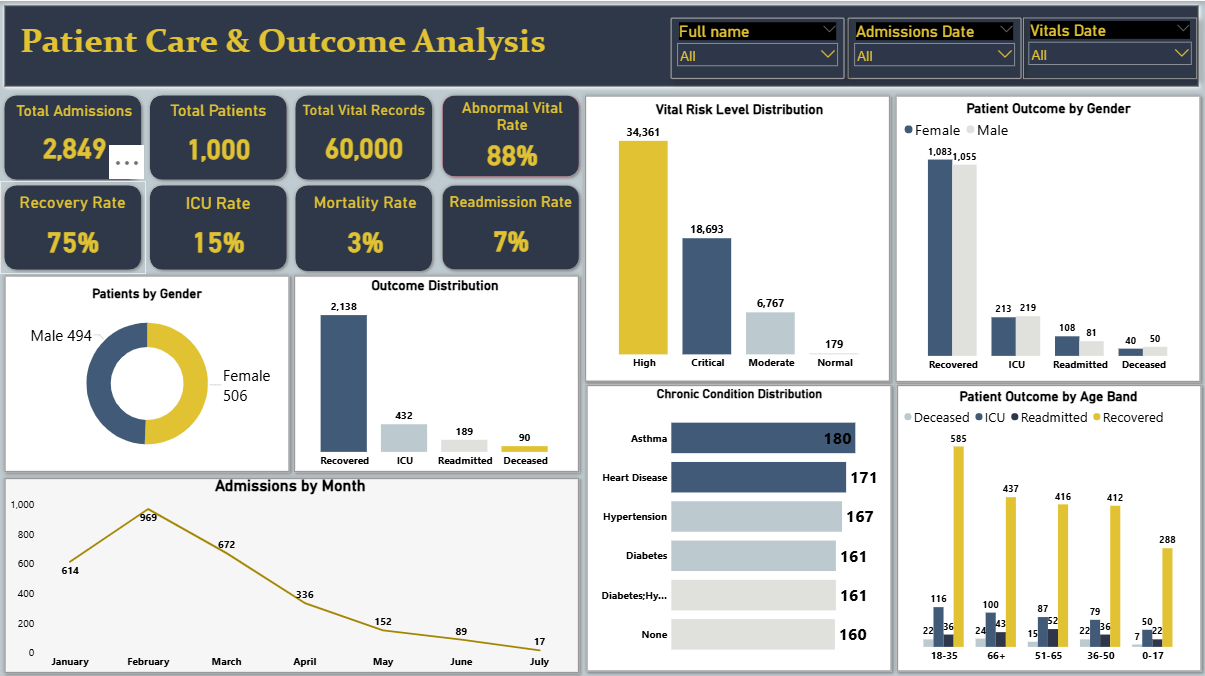

The dashboard page shown, as its layout file describes it:
{"tool":"powerbi","page":{"name":"Patient & Outcome Analysis","canvas":[2560,1440],"ordinal":1},"visuals":[{"type":"shape","box":[617.2,190.9,308.6,197.2],"z":0},{"type":"shape","box":[0,0,2551.3,190.9],"z":1000},{"type":"shape","box":[928.9,381.7,308.6,197.2],"z":2000},{"type":"shape","box":[928.9,190.9,308.6,190.9],"z":3000},{"type":"shape","box":[1231.1,190.9,666,626],"z":4000},{"type":"textbox","box":[38.2,35,1151.6,130.4],"z":5000},{"type":"shape","box":[1234.3,804.8,666,626.7],"z":6000},{"type":"shape","box":[0,572.6,623.5,435.8],"z":7000},{"type":"shape","box":[0,190.9,308.6,197.2],"z":8000},{"type":"shape","box":[308.6,190.9,308.6,197.2],"z":9000},{"type":"shape","box":[0,381.7,308.6,197.2],"z":10000},{"type":"shape","box":[308.6,381.7,308.6,197.2],"z":11000},{"type":"shape","box":[617.2,381.7,308.6,200.4],"z":12000},{"type":"card","title":"Total Admissions","fields":{"Values":["Measures_.Total admissions"]},"box":[19.1,213.1,276.8,146.3],"z":13000},{"type":"card","title":"Total Vital Records","fields":{"Values":["Measures_.Total Vital Records"]},"box":[633.1,213.1,276.8,149.5],"z":14000},{"type":"card","title":"Total Patients","fields":{"Values":["Measures_.Total Patients"]},"box":[321.3,213.1,283.1,149.5],"z":15000},{"type":"card","title":"Readmission Rate","fields":{"Values":["Measures_.Readmitted Outcome Rate"]},"box":[944.8,407.2,276.8,152.7],"z":16000},{"type":"card","title":"Mortality Rate","fields":{"Values":["Measures_.Mortality Rate"]},"box":[636.2,407.2,276.8,152.7],"z":17000},{"type":"slicer","fields":{"Values":["admissions.Month Date"]},"box":[1797.4,35,369,130.4],"z":18000},{"type":"slicer","fields":{"Values":["vitals.Month Date"]},"box":[2169.6,35,369,130.4],"z":19000},{"type":"card","title":"ICU Rate","fields":{"Values":["Measures_.ICU Rate"]},"box":[324.5,407.2,276.8,152.7],"z":20000},{"type":"slicer","fields":{"Values":["patients.full_name"]},"box":[1422,35,369,130.4],"z":21000},{"type":"donutChart","title":"Patients by Gender","fields":{"Category":["patients.gender"],"Y":["Measures_.Total Patients"]},"box":[19.1,604.4,585.3,381.7],"z":22000},{"type":"clusteredBarChart","title":"Chronic Condition Distribution","fields":{"Category":["patients.chronic_conditions"],"Y":["Measures_.Total Patients"]},"box":[1253.4,817.6,629.9,598.1],"z":23000},{"type":"card","title":"Abnormal Vital Rate","fields":{"Values":["Measures_.Abnormal Vital Rate"]},"box":[948,206.8,276.8,136.8],"z":24000},{"type":"card","title":"Recovery Rate","fields":{"Values":["Measures_.Recovery Rate"]},"box":[15.9,407.2,276.8,152.7],"z":25000},{"type":"shape","box":[0,1002.1,1237.5,432.6],"z":26000},{"type":"shape","box":[614,572.6,623.5,435.8],"z":27000},{"type":"lineChart","title":"Admissions by Month","fields":{"Y":["Measures_.Total Admissions"],"Category":["admissions.Month Date.Variation.Date Hierarchy.Month"]},"box":[15.9,1008.4,1199.3,416.7],"z":28000},{"type":"clusteredColumnChart","title":"Outcome Distribution","fields":{"Y":["Measures_.Total Admissions"],"Category":["admissions.outcome"]},"box":[623.5,585.3,598.1,413.6],"z":29000},{"type":"shape","box":[1889.6,190.9,666,626.7],"z":30000},{"type":"shape","box":[1892.8,804.8,664.9,626.7],"z":31000},{"type":"clusteredColumnChart","title":"Patient Outcome by Gender","fields":{"Y":["Measures_.Total Admissions"],"Series":["patients.gender"],"Category":["admissions.outcome"]},"box":[1908.7,210,629.9,585.3],"z":32000},{"type":"clusteredColumnChart","title":"Vital Risk Level Distribution","fields":{"Category":["vitals.vital_risk_level"],"Y":["Measures_.Total Vital Records"]},"box":[1253.4,213.1,629.9,579],"z":33000},{"type":"clusteredColumnChart","title":"Patient Outcome by  Age Band","fields":{"Y":["Measures_.Total Admissions"],"Series":["admissions.outcome"],"Category":["patients.Age Band"]},"box":[1908.7,820.8,629.9,591.7],"z":34000}]}

Visuals, with their boxes in screenshot pixels (x1, y1, x2, y2), scaled from the page's 2560x1440 canvas onto the 1205x676 screenshot:
shape: locate(291, 90, 436, 182)
shape: locate(0, 0, 1201, 90)
shape: locate(437, 179, 582, 272)
shape: locate(437, 90, 582, 179)
shape: locate(579, 90, 893, 383)
textbox: locate(18, 16, 560, 78)
shape: locate(581, 378, 894, 672)
shape: locate(0, 269, 293, 473)
shape: locate(0, 90, 145, 182)
shape: locate(145, 90, 291, 182)
shape: locate(0, 179, 145, 272)
shape: locate(145, 179, 291, 272)
shape: locate(291, 179, 436, 273)
"Total Admissions" card: locate(9, 100, 139, 169)
"Total Vital Records" card: locate(298, 100, 428, 170)
"Total Patients" card: locate(151, 100, 284, 170)
"Readmission Rate" card: locate(445, 191, 575, 263)
"Mortality Rate" card: locate(299, 191, 430, 263)
slicer - admissions.Month Date: locate(846, 16, 1020, 78)
slicer - vitals.Month Date: locate(1021, 16, 1195, 78)
"ICU Rate" card: locate(153, 191, 283, 263)
slicer - patients.full_name: locate(669, 16, 843, 78)
"Patients by Gender" donutChart: locate(9, 284, 284, 463)
"Chronic Condition Distribution" clusteredBarChart: locate(590, 384, 886, 665)
"Abnormal Vital Rate" card: locate(446, 97, 577, 161)
"Recovery Rate" card: locate(7, 191, 138, 263)
shape: locate(0, 470, 582, 674)
shape: locate(289, 269, 582, 473)
"Admissions by Month" lineChart: locate(7, 473, 572, 669)
"Outcome Distribution" clusteredColumnChart: locate(293, 275, 575, 469)
shape: locate(889, 90, 1203, 384)
shape: locate(891, 378, 1204, 672)
"Patient Outcome by Gender" clusteredColumnChart: locate(898, 99, 1195, 373)
"Vital Risk Level Distribution" clusteredColumnChart: locate(590, 100, 886, 372)
"Patient Outcome by  Age Band" clusteredColumnChart: locate(898, 385, 1195, 663)
